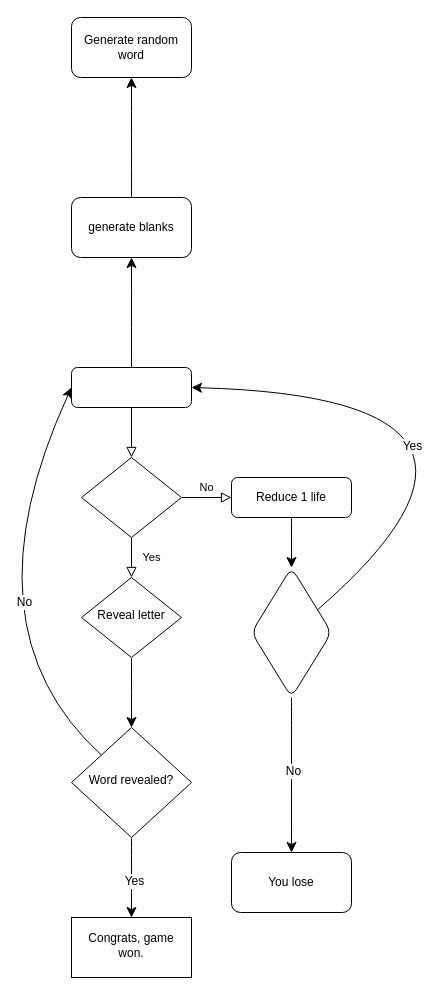
The diagram is 440 pixels wide and 995 high, and some of its shapes have lost their labels. The centre of each missing label's shape, as x and y in pixels:
"Ask user to guess a letter" goes at point 131,387.
"Enough lives left?" goes at point 291,632.
"Guess correct?" goes at point 131,497.
